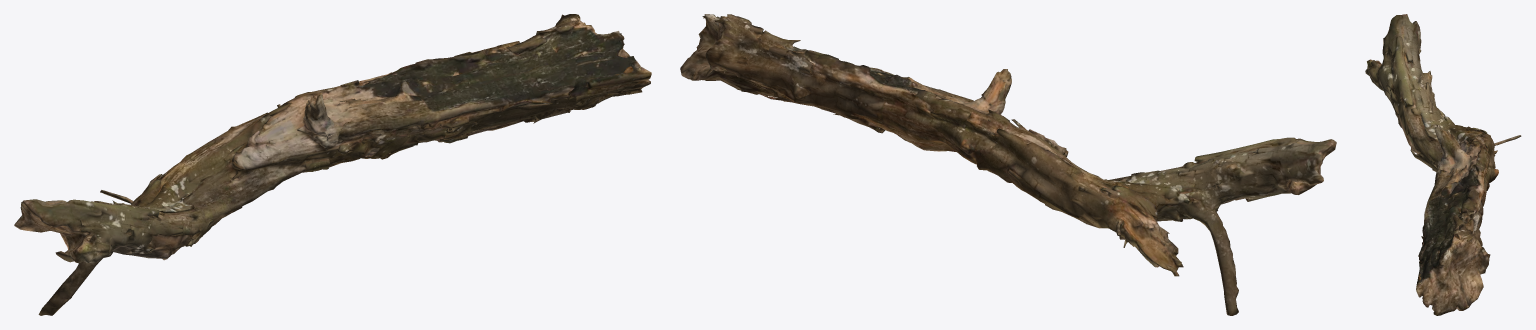
File: dead_tree_trunk_02.glb
3 views of the same model, side by side, from view 1: azimuth 30°, elevation 25°; view 2: azimuth 150°, elevation 25°; view 3: azimuth 270°, elevation 25° (orthographic). The views are drawn at different scales.
Visible parts, largest first — view 1: dead_tree_trunk_02; view 2: dead_tree_trunk_02; view 3: dead_tree_trunk_02.
Part boxes in pixels (box(x1,y1,x2,y2)): dead_tree_trunk_02: box(14, 14, 651, 315); dead_tree_trunk_02: box(680, 14, 1336, 315); dead_tree_trunk_02: box(1365, 14, 1521, 315).
Size of the model in its own units: 4.05 by 1.05 by 1.05.
Materials: 1 (1 with a texture image).
